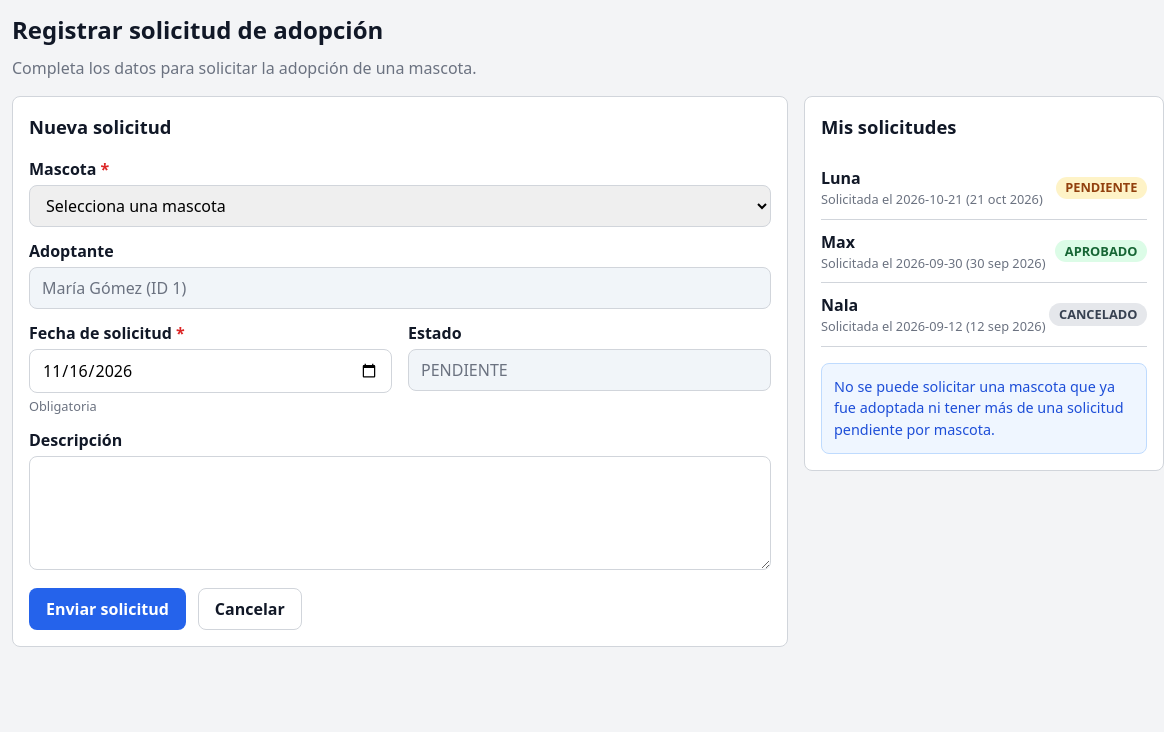
Scenario: AdoptionRequestPage (HU02) › shows the reason when the pet was already adopted
Select "Max · Beagle · 4 años · Cali · Adoptada" in the dropdown labelled "Mascota *" at (400, 206), box [29,185,771,227]
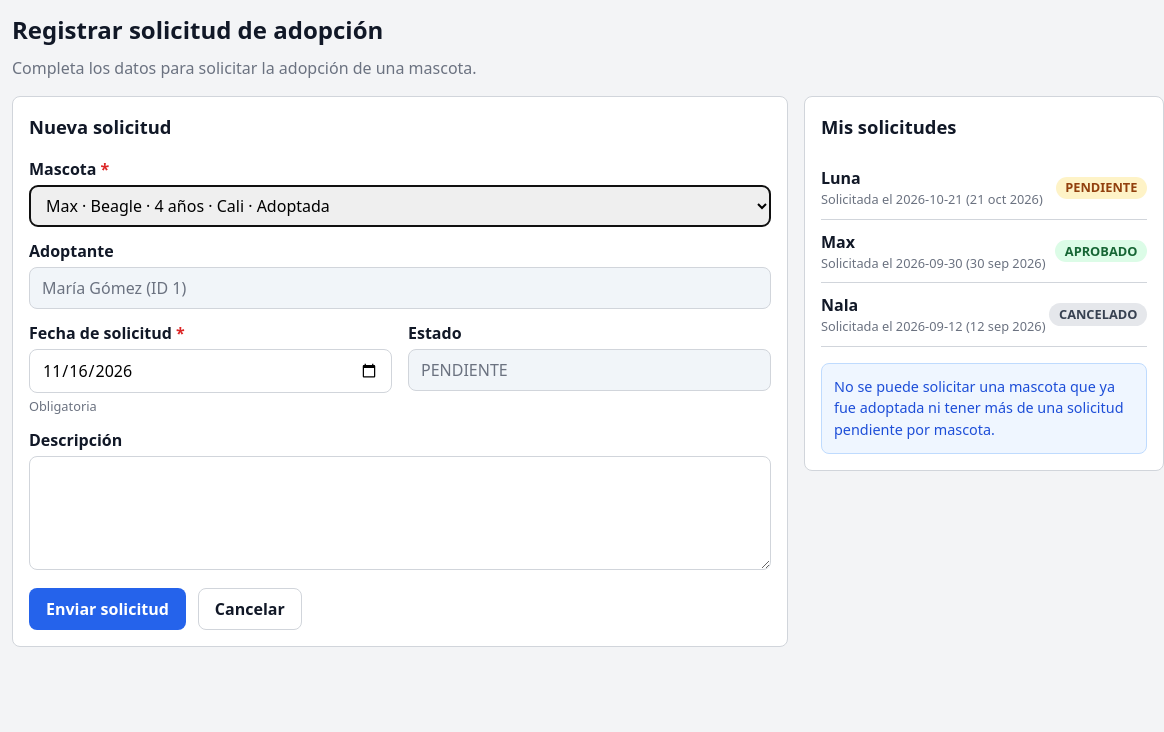
Click the button "Enviar solicitud" at (107, 609), box [29,588,186,630]
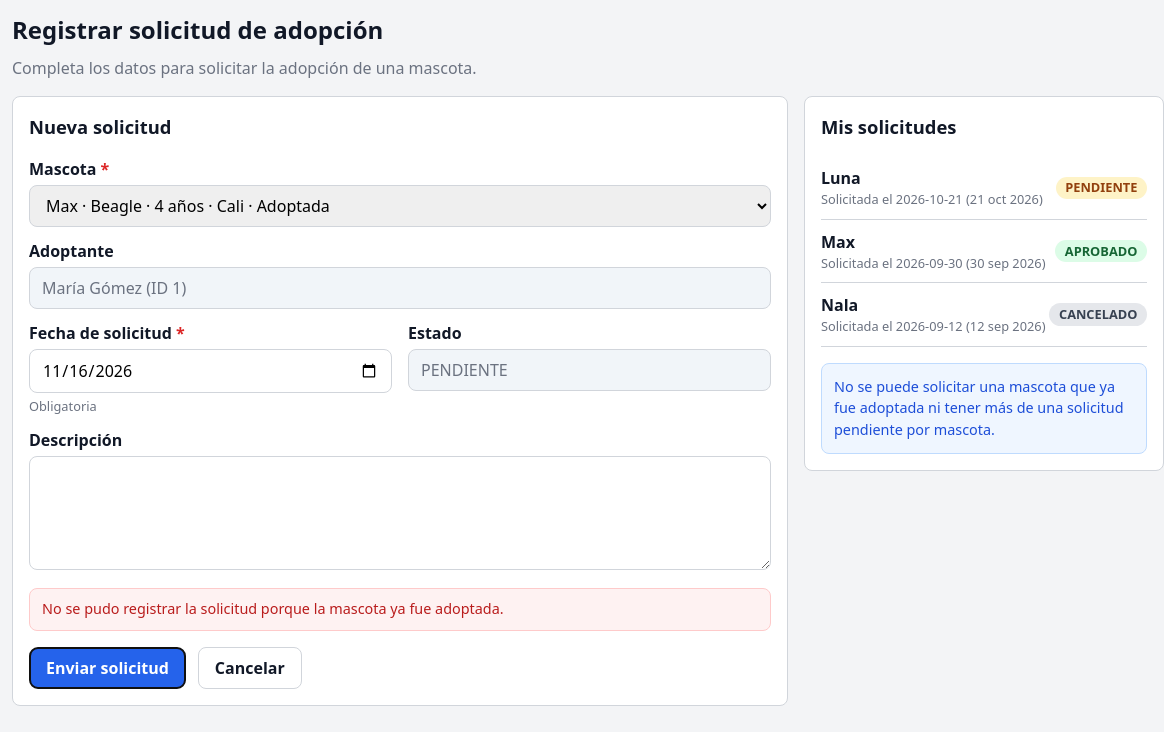
Now the message shows "la mascota ya fue adoptada", box [42,599,504,618]
